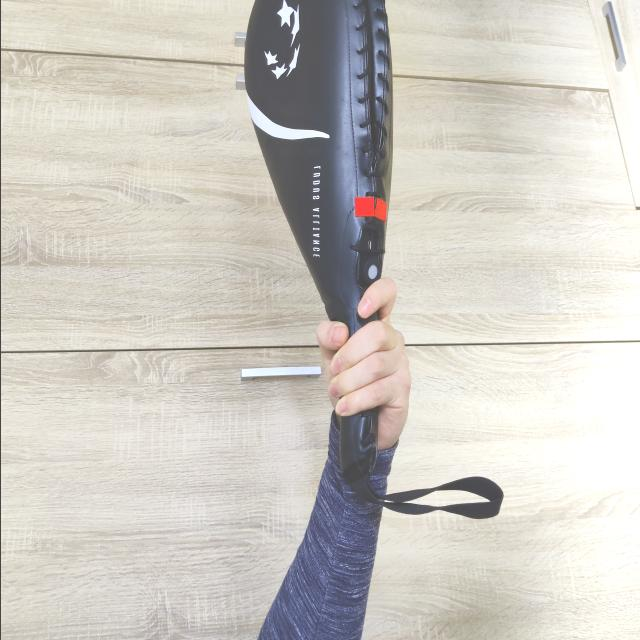paddle: (240, 0, 396, 482)
